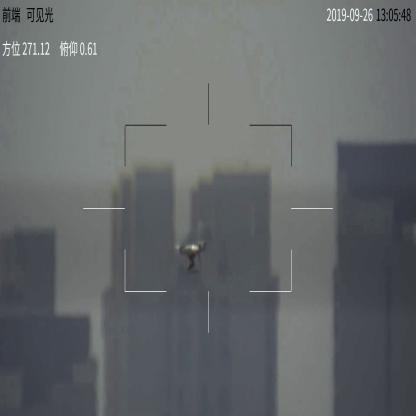uav: (171, 240, 210, 272)
